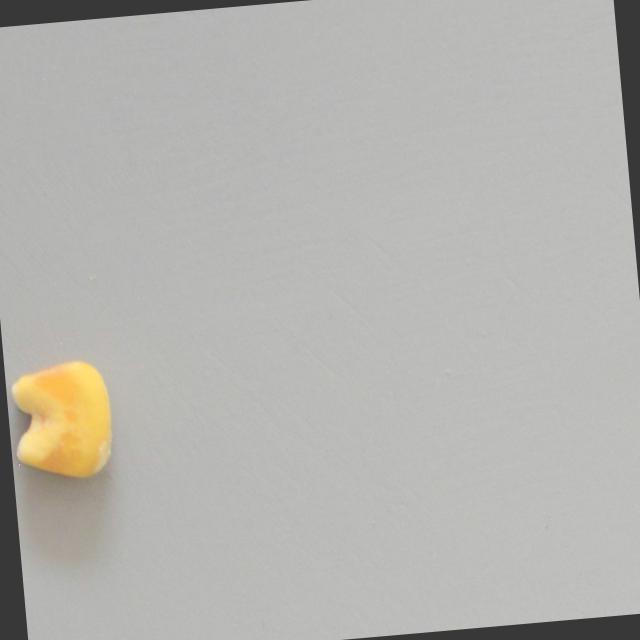dañado: (6, 353, 122, 489)
